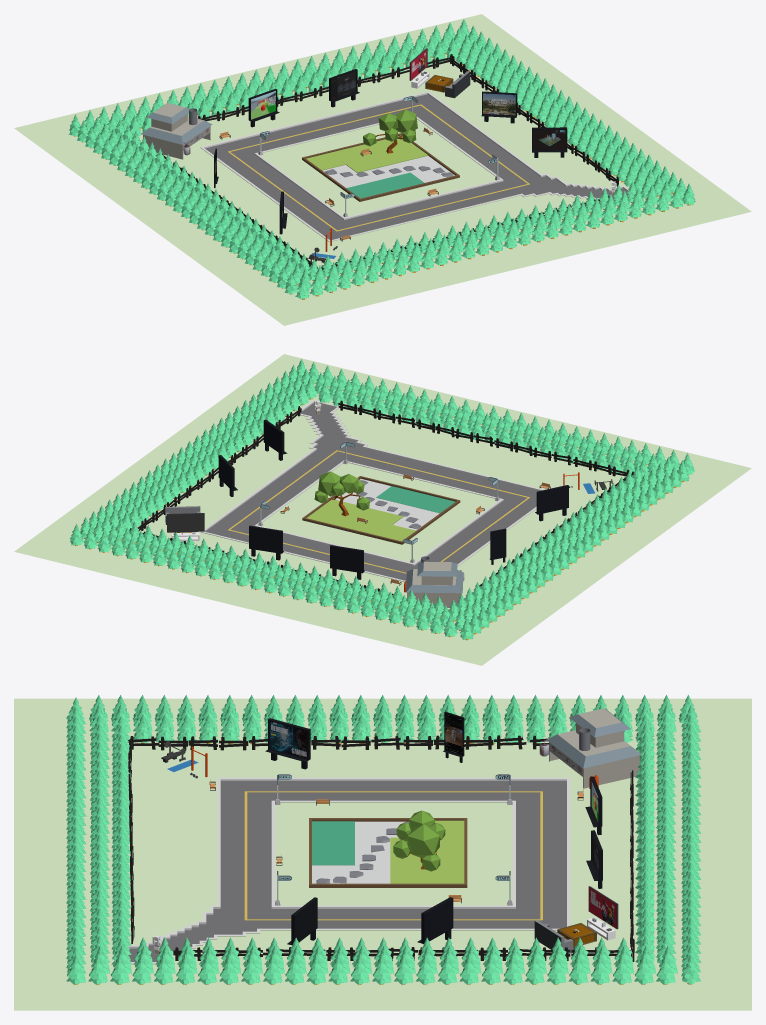
The model's file is voxel1.glb.
The picture shows the model from 3 angles, top to bottom: view 1: azimuth 30°, elevation 25°; view 2: azimuth 150°, elevation 25°; view 3: azimuth 270°, elevation 25°; orthographic projection. The views are drawn at different scales.
Parts seen in each view (by area): view 1: level, ichirakugas, gaming, sign.003, sign.002, sign, sign.001; view 2: level, ichirakugas, gaming, sign, sign.001, sign.005, sign.003, sign.004; view 3: level, ichirakugas, gaming, sign.005, sign.002, sign.003, sign.004, sign, sign.001, dumbell.001.
Part boxes in pixels (left/top/right/bottom): level: left=14, top=14, right=751, bottom=325; ichirakugas: left=141, top=103, right=212, bottom=159; gaming: left=409, top=48, right=470, bottom=98; sign.003: left=532, top=127, right=567, bottom=157; sign.002: left=481, top=91, right=517, bottom=123; sign: left=248, top=88, right=279, bottom=127; sign.001: left=329, top=69, right=359, bottom=107; level: left=14, top=354, right=751, bottom=665; ichirakugas: left=404, top=556, right=464, bottom=607; gaming: left=165, top=506, right=204, bottom=541; sign: left=330, top=545, right=364, bottom=579; sign.001: left=249, top=525, right=283, bottom=560; sign.005: left=535, top=485, right=568, bottom=521; sign.003: left=263, top=419, right=287, bottom=460; sign.004: left=490, top=528, right=506, bottom=564; level: left=14, top=694, right=751, bottom=1010; ichirakugas: left=539, top=708, right=641, bottom=788; gaming: left=534, top=886, right=618, bottom=953; sign.005: left=265, top=718, right=310, bottom=769; sign.002: left=417, top=897, right=453, bottom=943; sign.003: left=287, top=897, right=317, bottom=945; sign.004: left=443, top=711, right=464, bottom=762; sign: left=585, top=776, right=602, bottom=835; sign.001: left=586, top=830, right=602, bottom=888; dumbell.001: left=161, top=741, right=207, bottom=778.
Size of the model in its own units: 372 by 32.47 by 372.
Materials: 70 (13 with a texture image).
